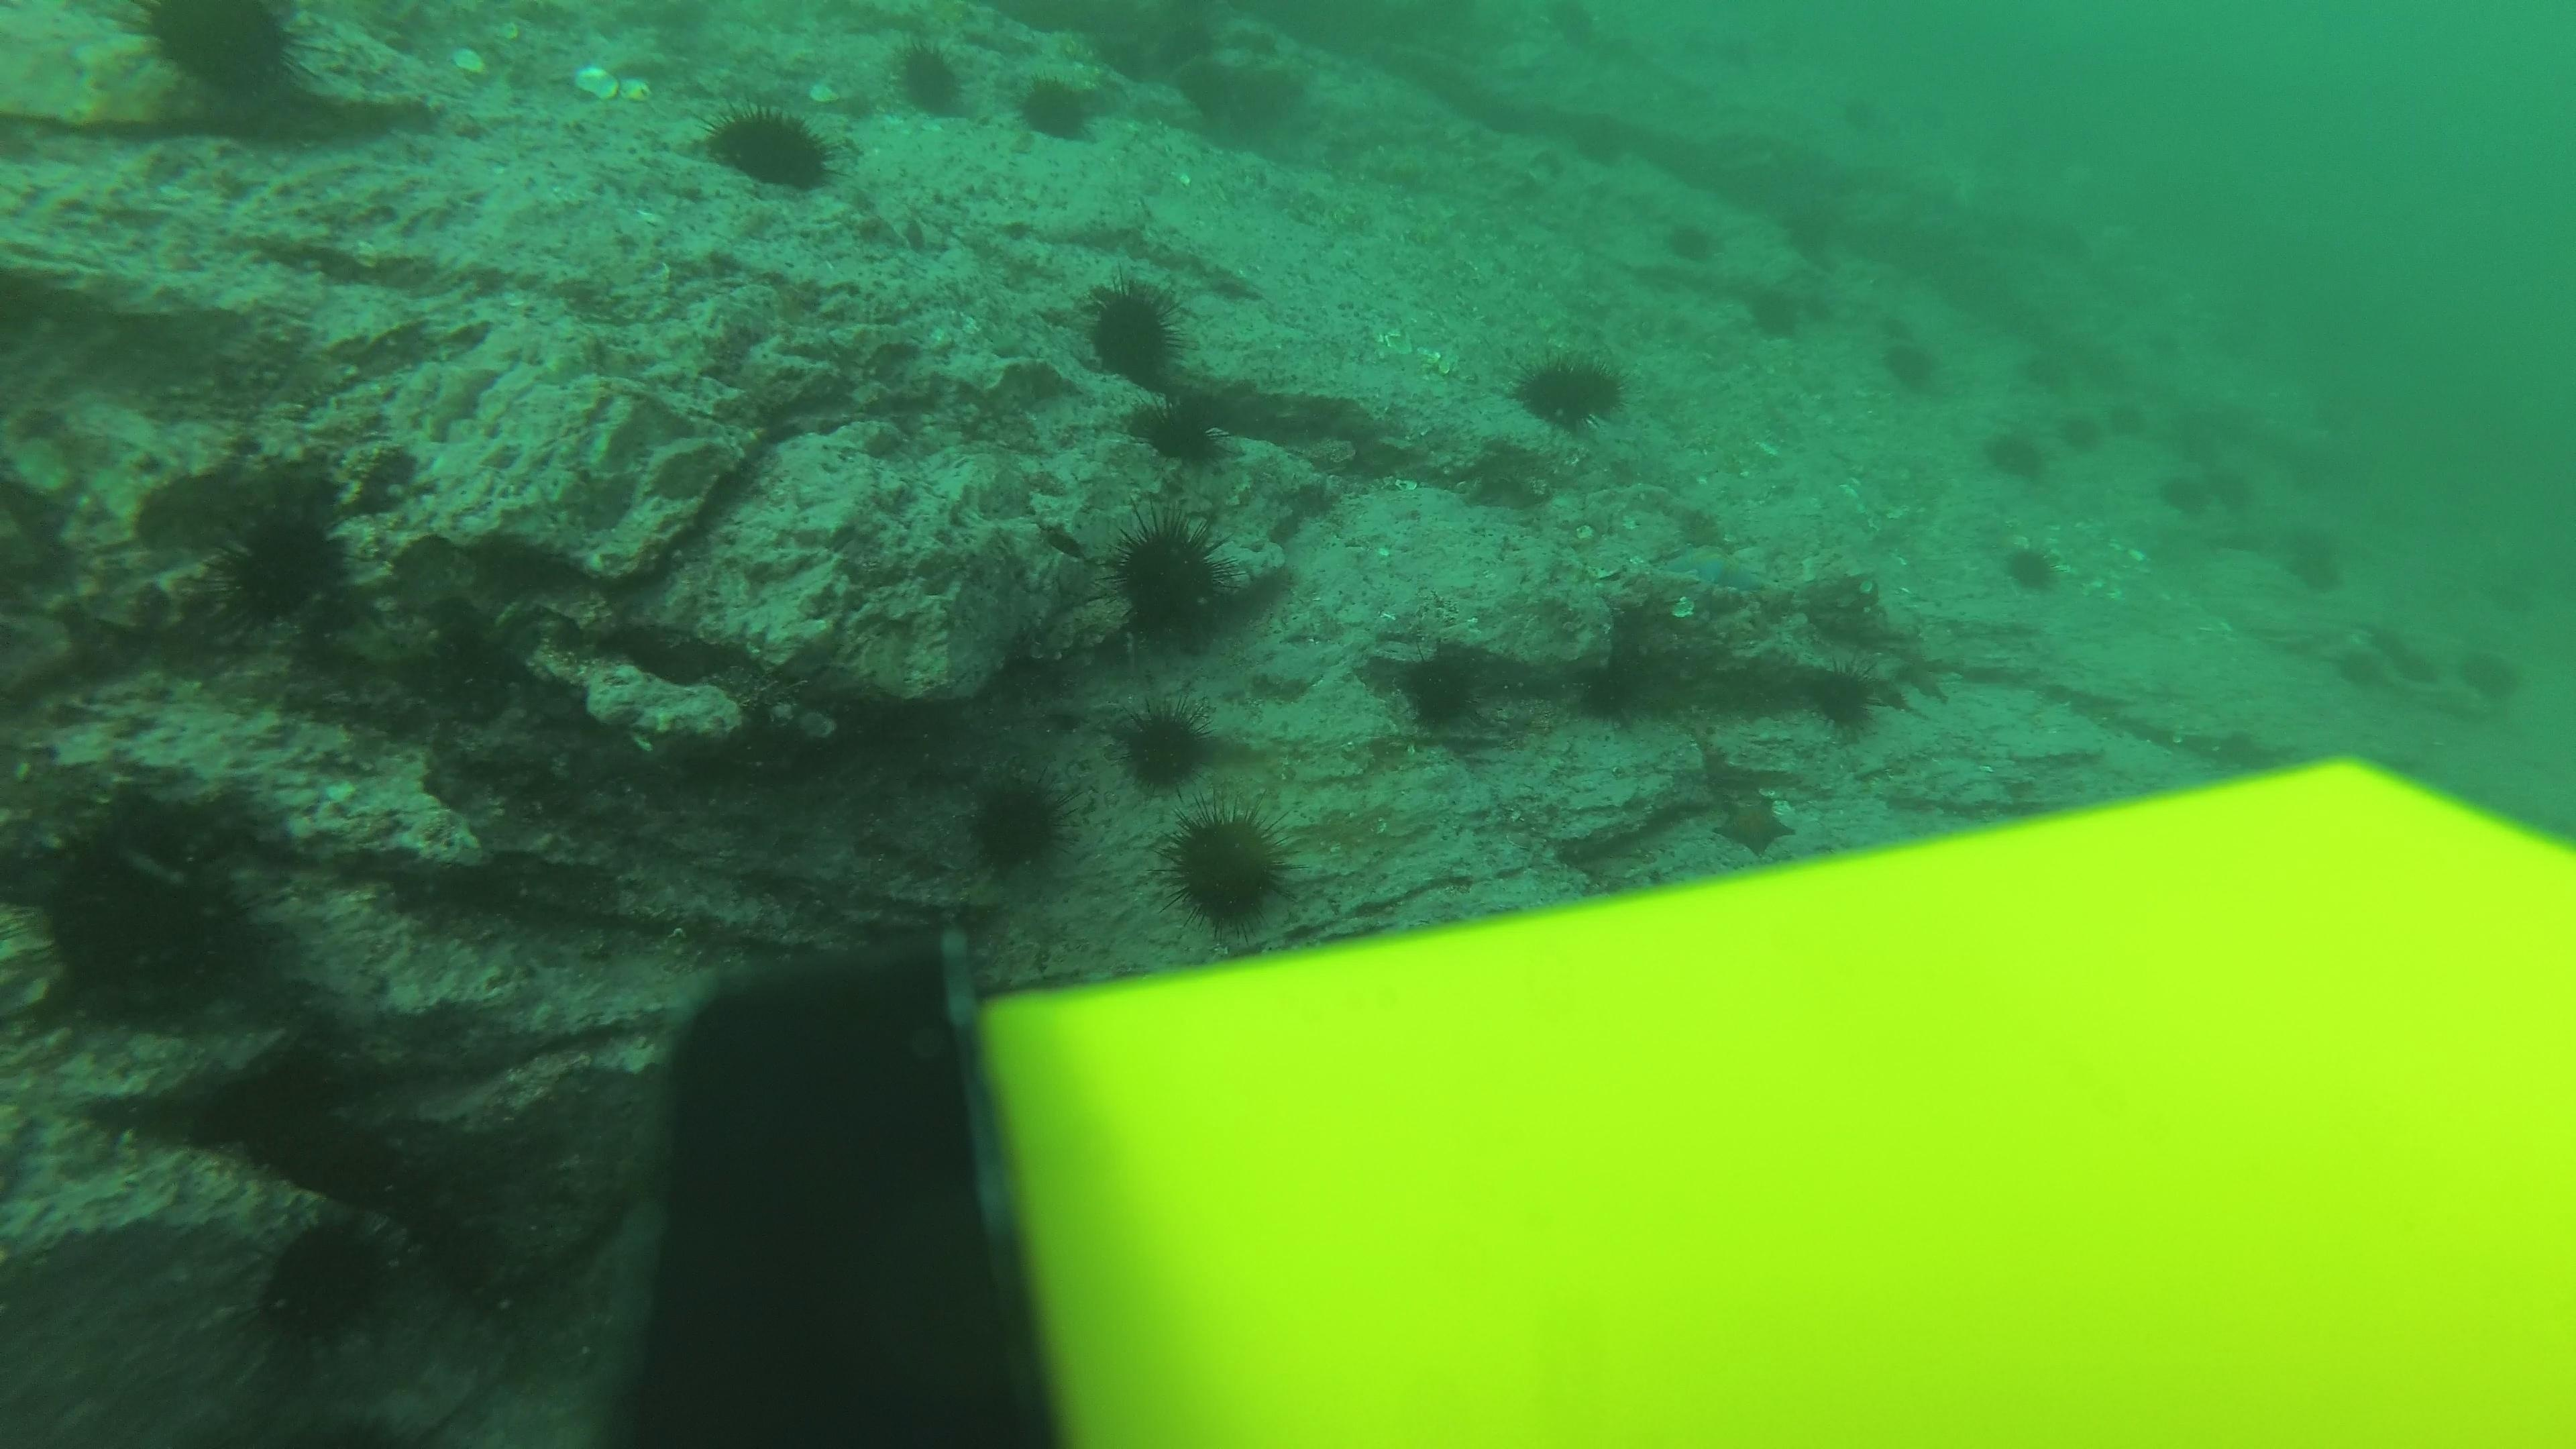echinus: (14, 807, 274, 1035), (246, 1205, 402, 1352), (127, 2, 318, 110), (1102, 511, 1244, 653), (209, 499, 354, 632), (1159, 803, 1299, 932), (1173, 44, 1315, 150), (699, 97, 840, 198), (1074, 274, 1194, 391), (959, 768, 1074, 878), (1378, 639, 1499, 741), (1108, 699, 1219, 796), (1127, 391, 1233, 474), (883, 37, 977, 126), (1008, 69, 1109, 150), (1509, 354, 1598, 435), (1801, 662, 1893, 738), (1568, 648, 1652, 727), (2275, 518, 2353, 598), (1872, 326, 1946, 396), (1978, 419, 2054, 487), (1568, 343, 1635, 410), (1732, 285, 1805, 341), (1999, 536, 2065, 598), (1651, 211, 1721, 267), (1568, 113, 1638, 170), (2479, 663, 2534, 711), (2454, 640, 2509, 688), (2155, 469, 2210, 517), (2204, 465, 2259, 513), (2015, 341, 2070, 389), (2479, 580, 2534, 626), (2176, 428, 2231, 474), (2058, 410, 2112, 456), (2112, 398, 2167, 444), (1840, 96, 1895, 133), (1783, 221, 1838, 258), (1872, 304, 1927, 341), (2337, 640, 2380, 688), (2043, 216, 2097, 253), (1698, 34, 1753, 69), (2146, 322, 2192, 361)
starfish: (1651, 538, 1776, 600), (1709, 786, 1798, 856)
